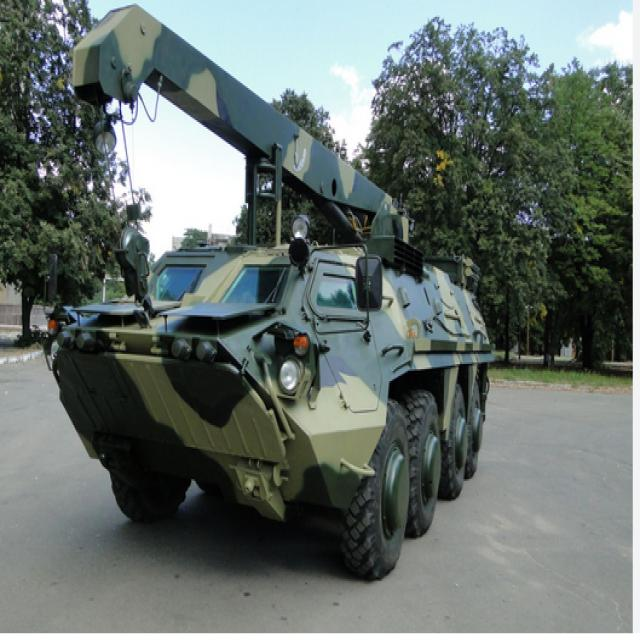MIL_APC: (53, 118, 524, 574)
